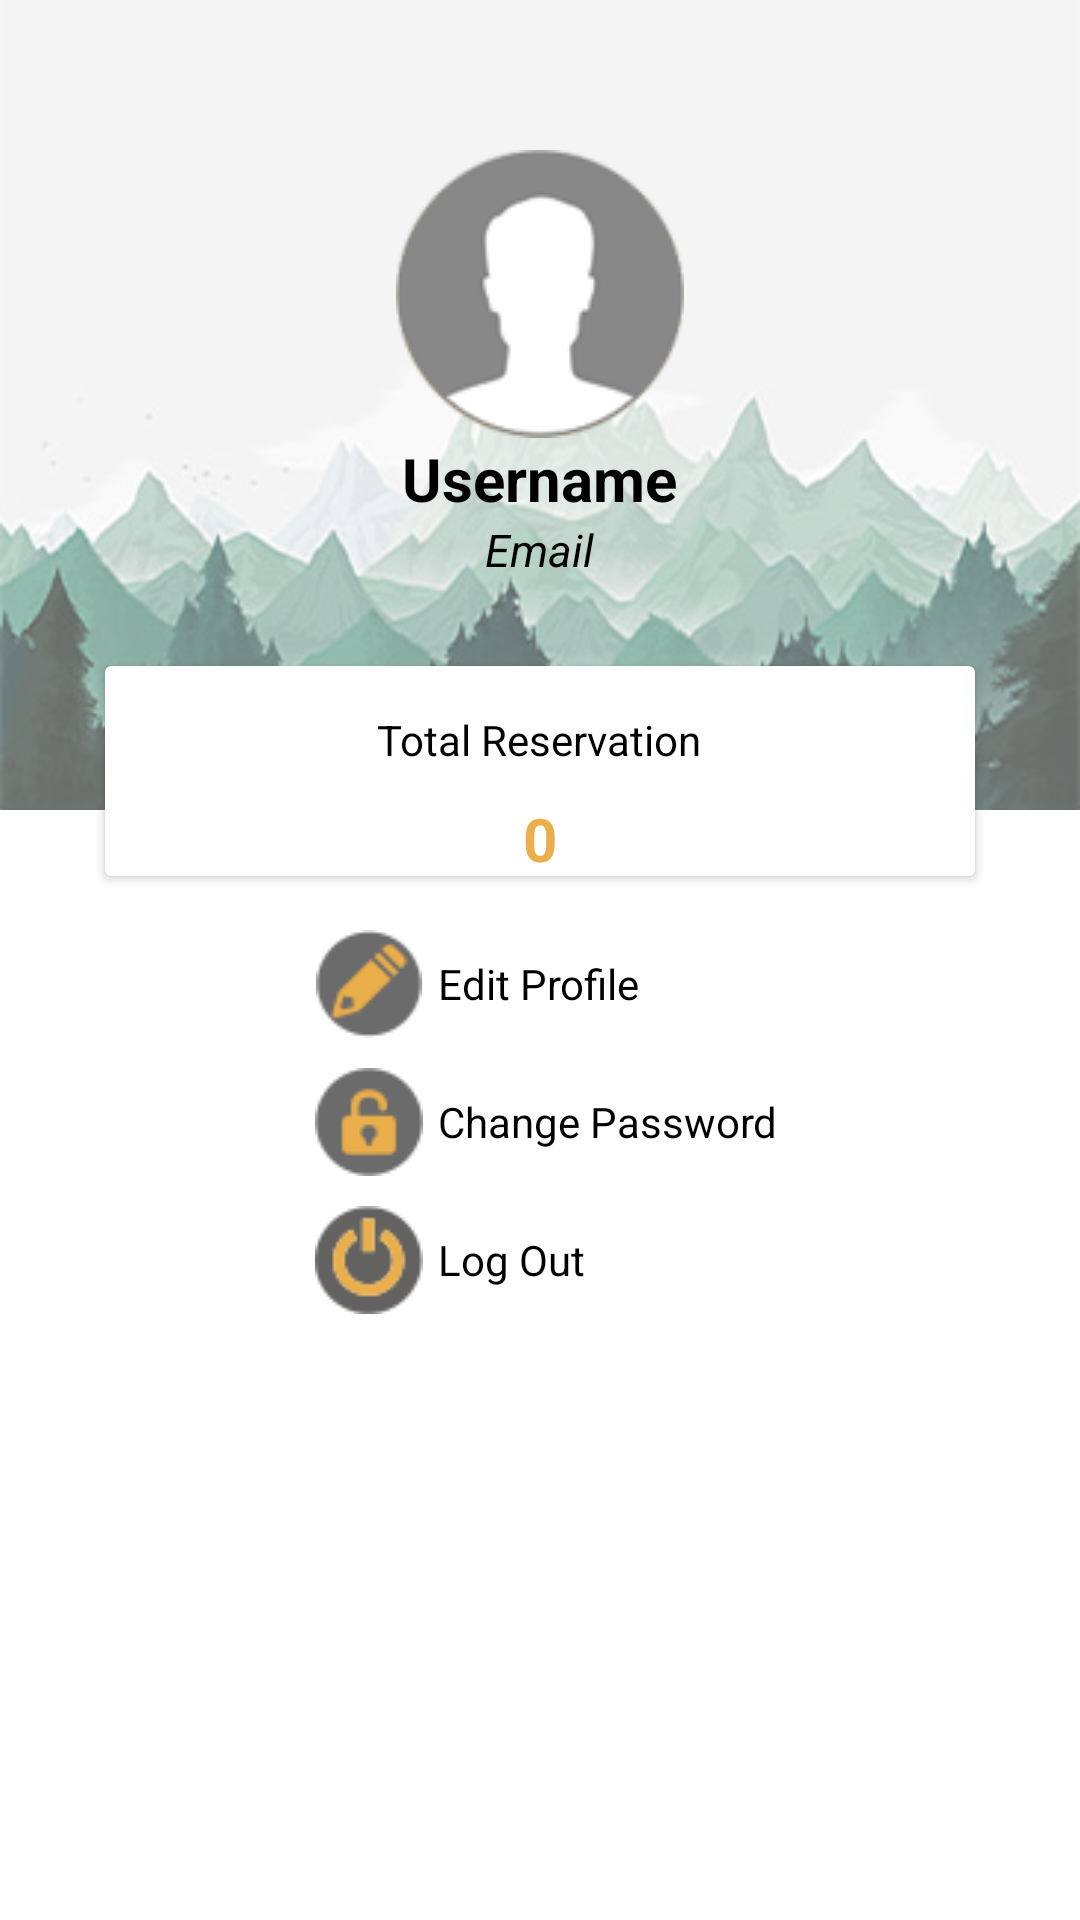

Locate icon controls on the screen. Image size 1080×1920, boxes as (x1, y1, x2, y2).
profile pct: (396, 150, 684, 438)
